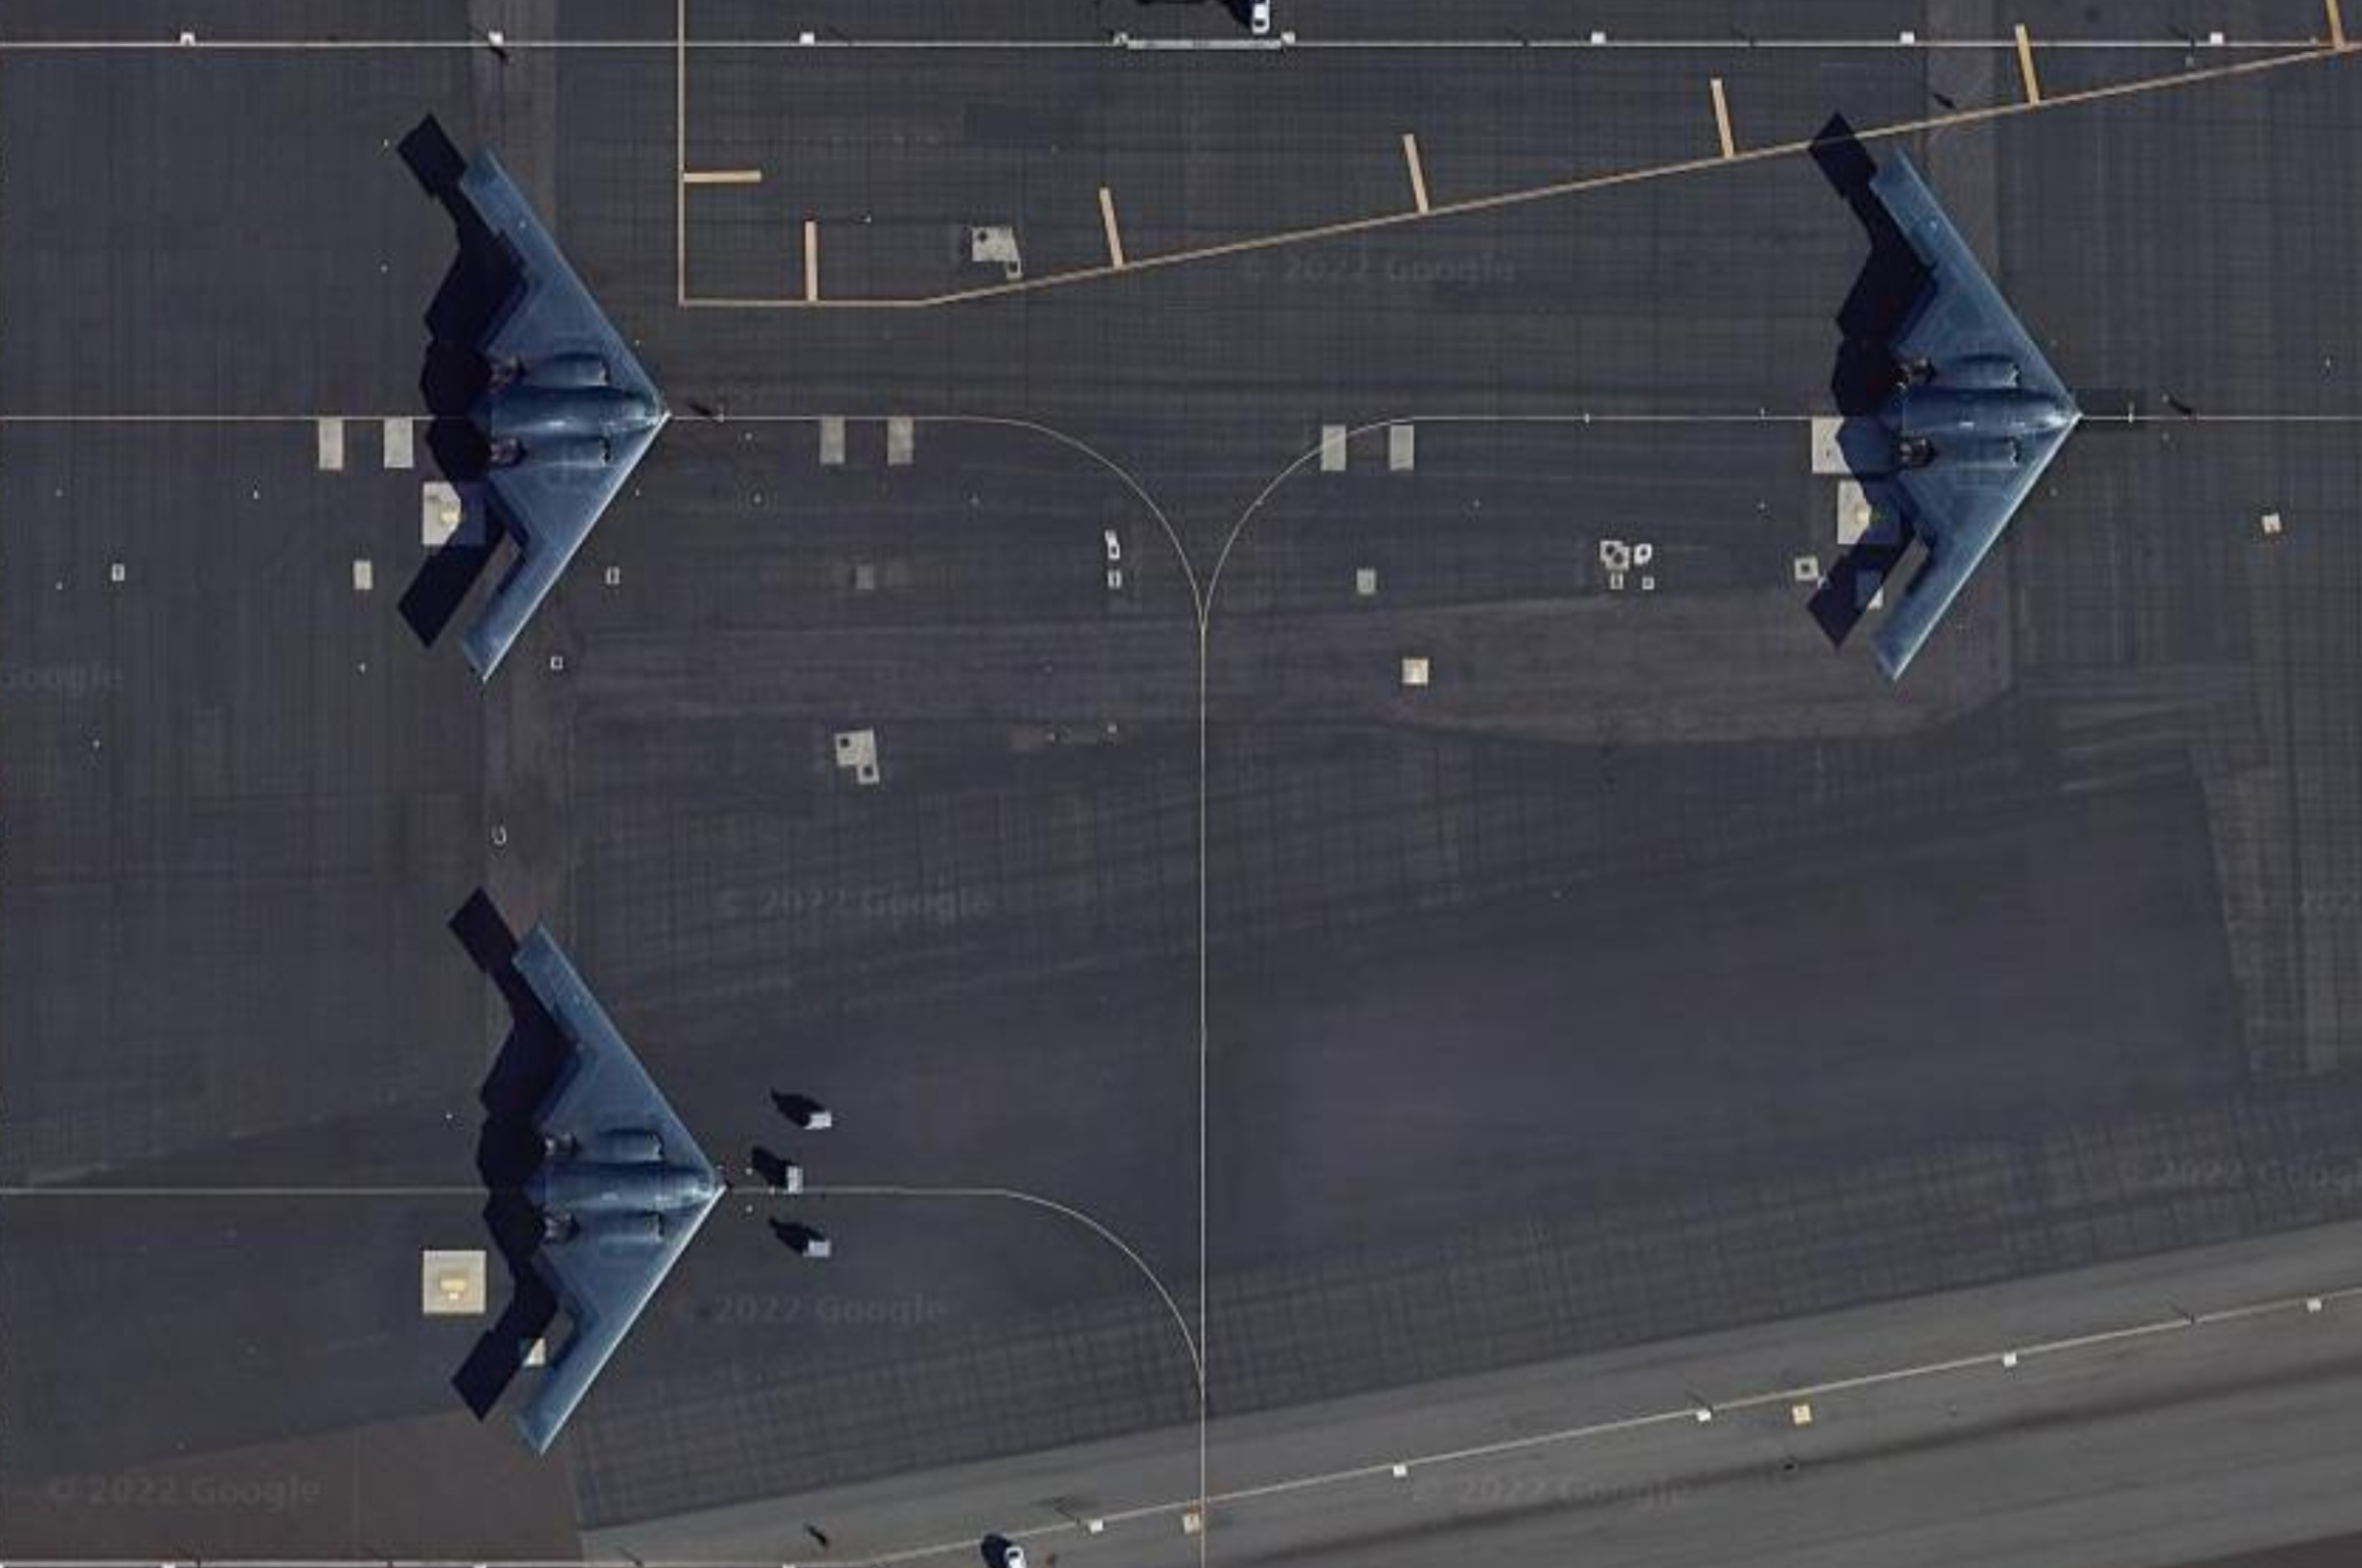B2: (506, 920, 728, 1458), (1862, 145, 2084, 682), (455, 142, 672, 688)
